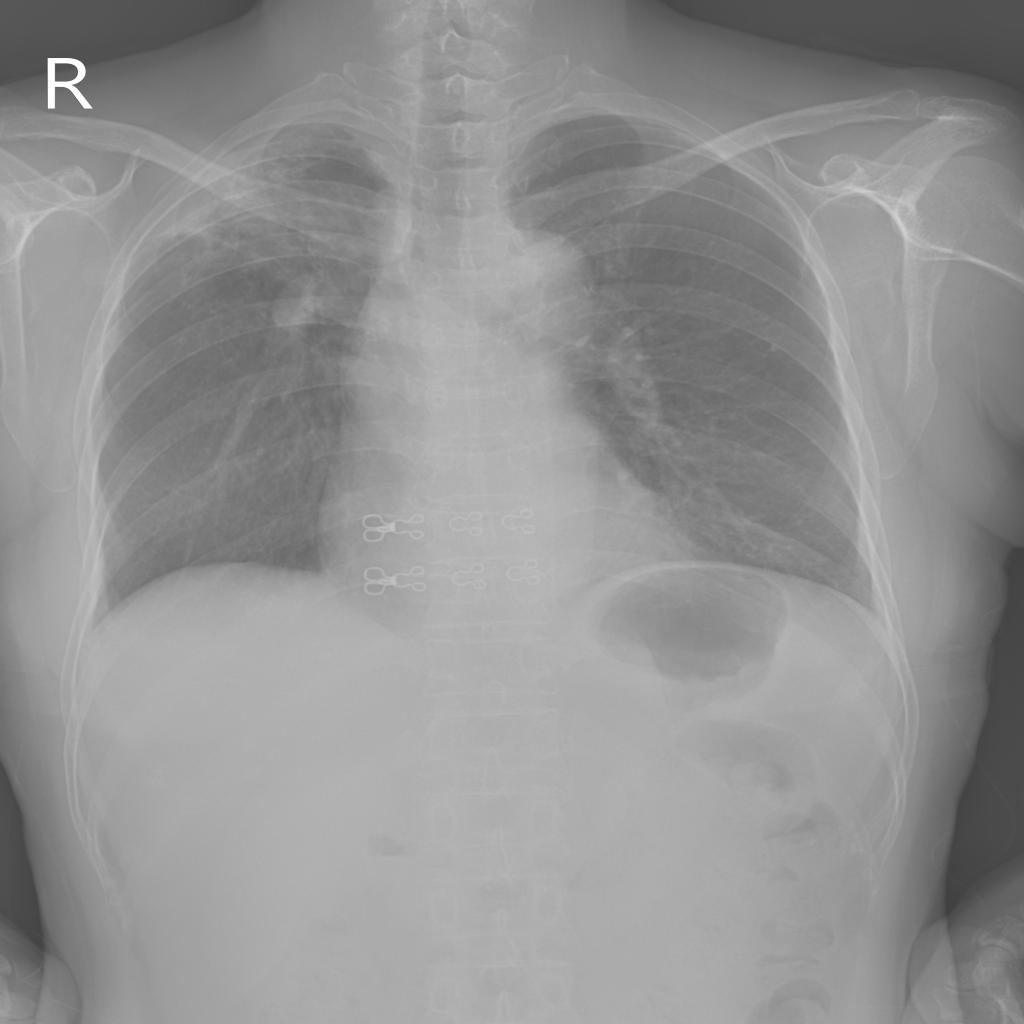Nodule: (271, 275, 321, 330)
